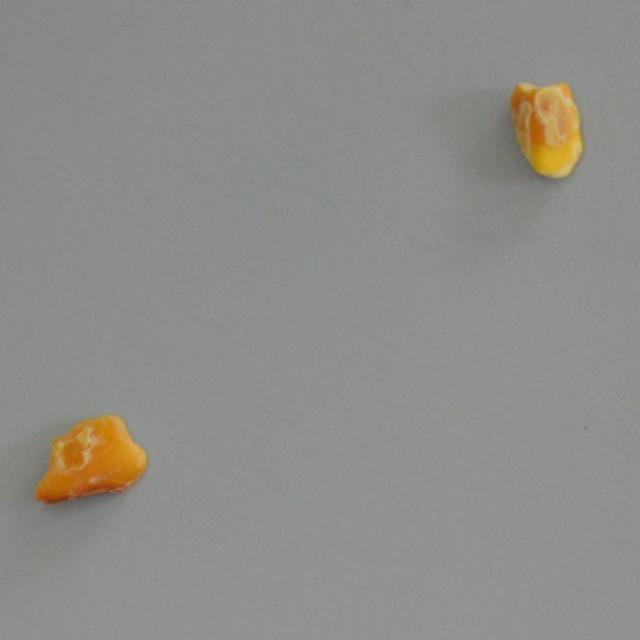dañado: (29, 408, 149, 511), (506, 74, 589, 188)
